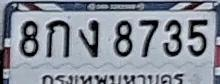3: (163, 19, 182, 56)
5: (188, 19, 208, 57)
7: (139, 19, 158, 57)
8: (113, 20, 132, 57), (19, 20, 38, 57)
A01: (46, 18, 70, 58)
A07: (78, 19, 100, 57)
